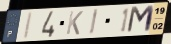1: (120, 6, 131, 34)
4: (41, 9, 56, 39)
I: (21, 10, 35, 41), (87, 8, 100, 37)
K: (64, 10, 85, 36)
M: (125, 4, 156, 35)
